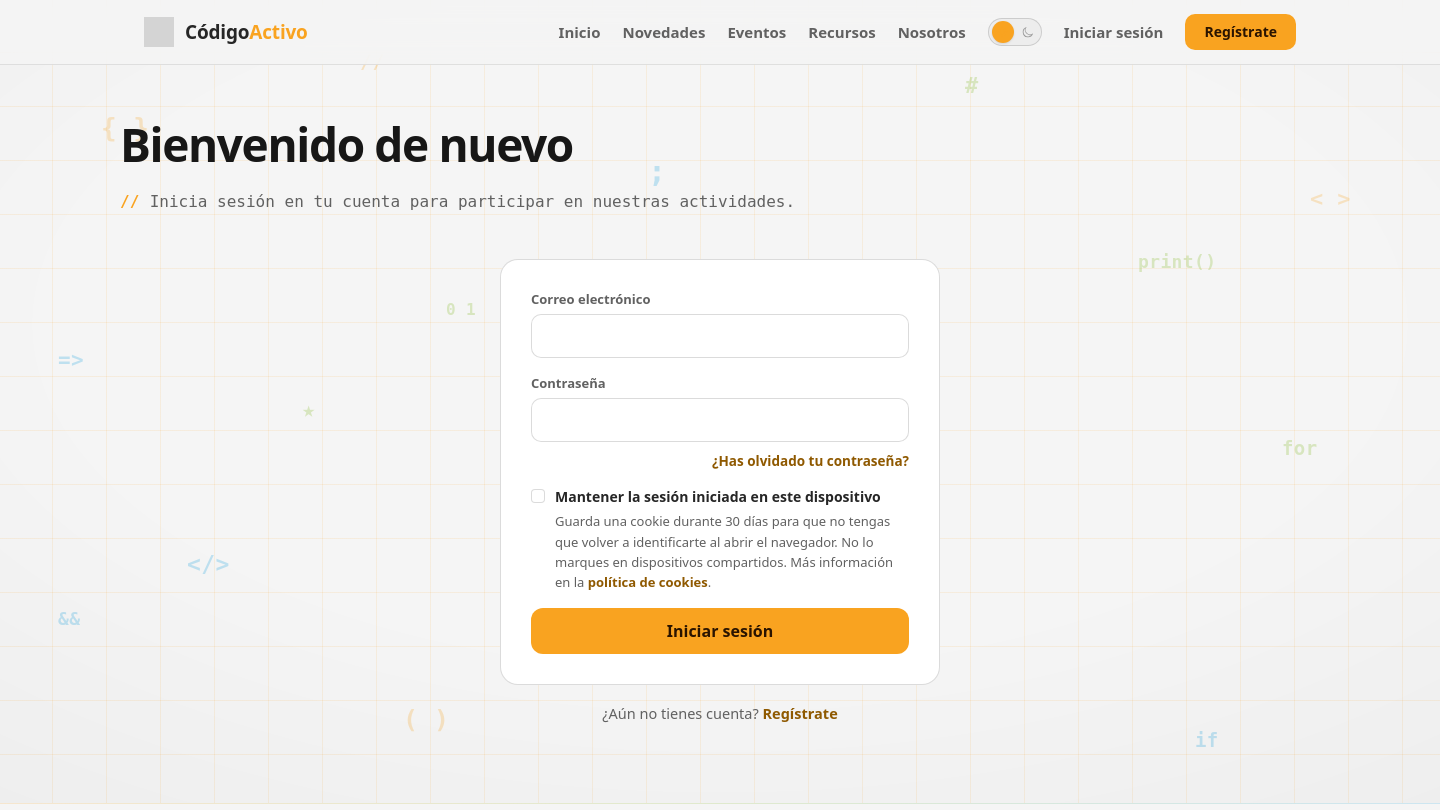
Test: login page › accepts the password and continues to the verification page keeping the redirect
Expected: the heading "Bienvenido de nuevo" is shown, left=120, top=113, right=573, bottom=175
Type "grace@example.test" into the field with id "login-identifier".
click(720, 336); type("grace@example.test")  # box left=545, top=315, right=895, bottom=357
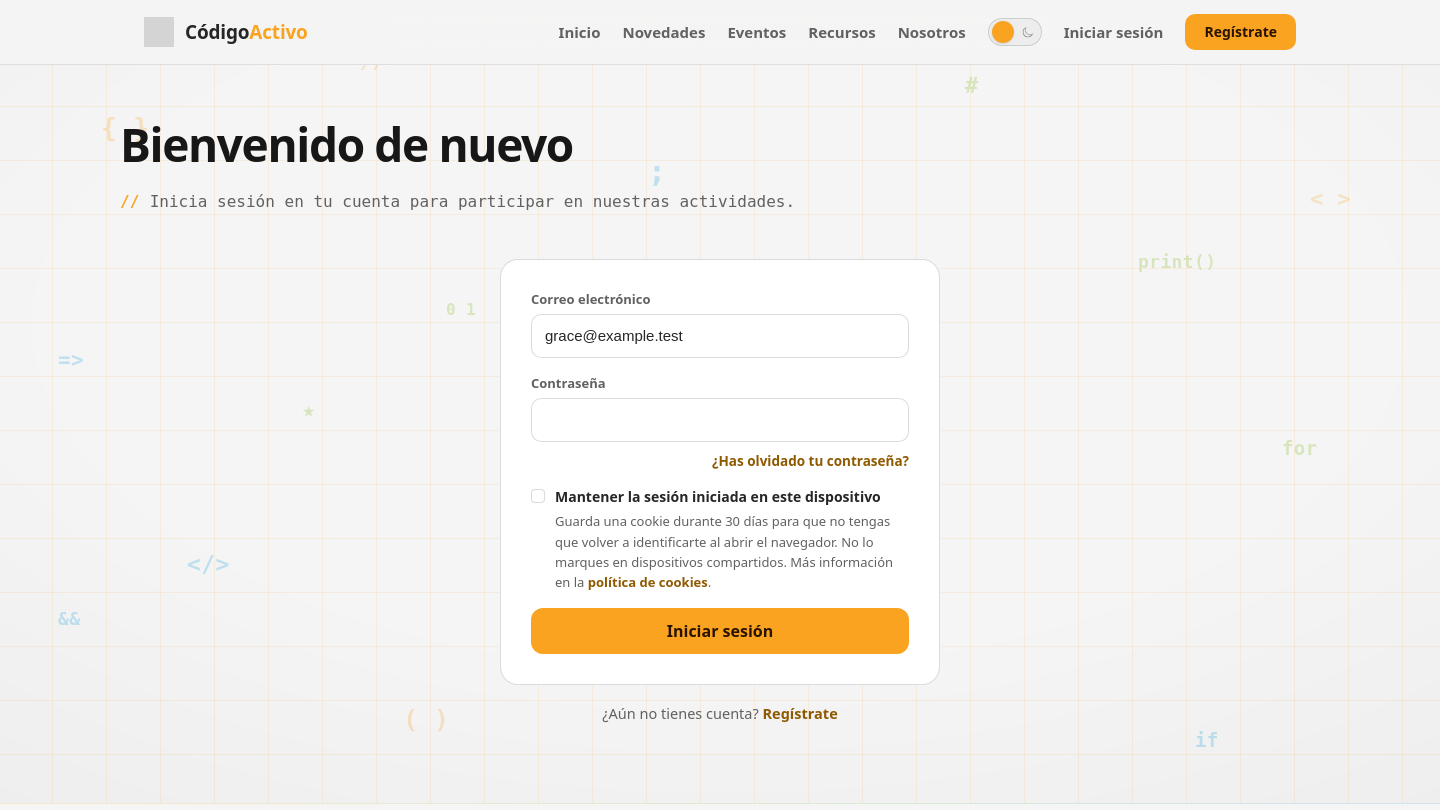
Type "secret" into the password field with id "login-password".
click(720, 420); type("secret")  # box left=545, top=399, right=895, bottom=441
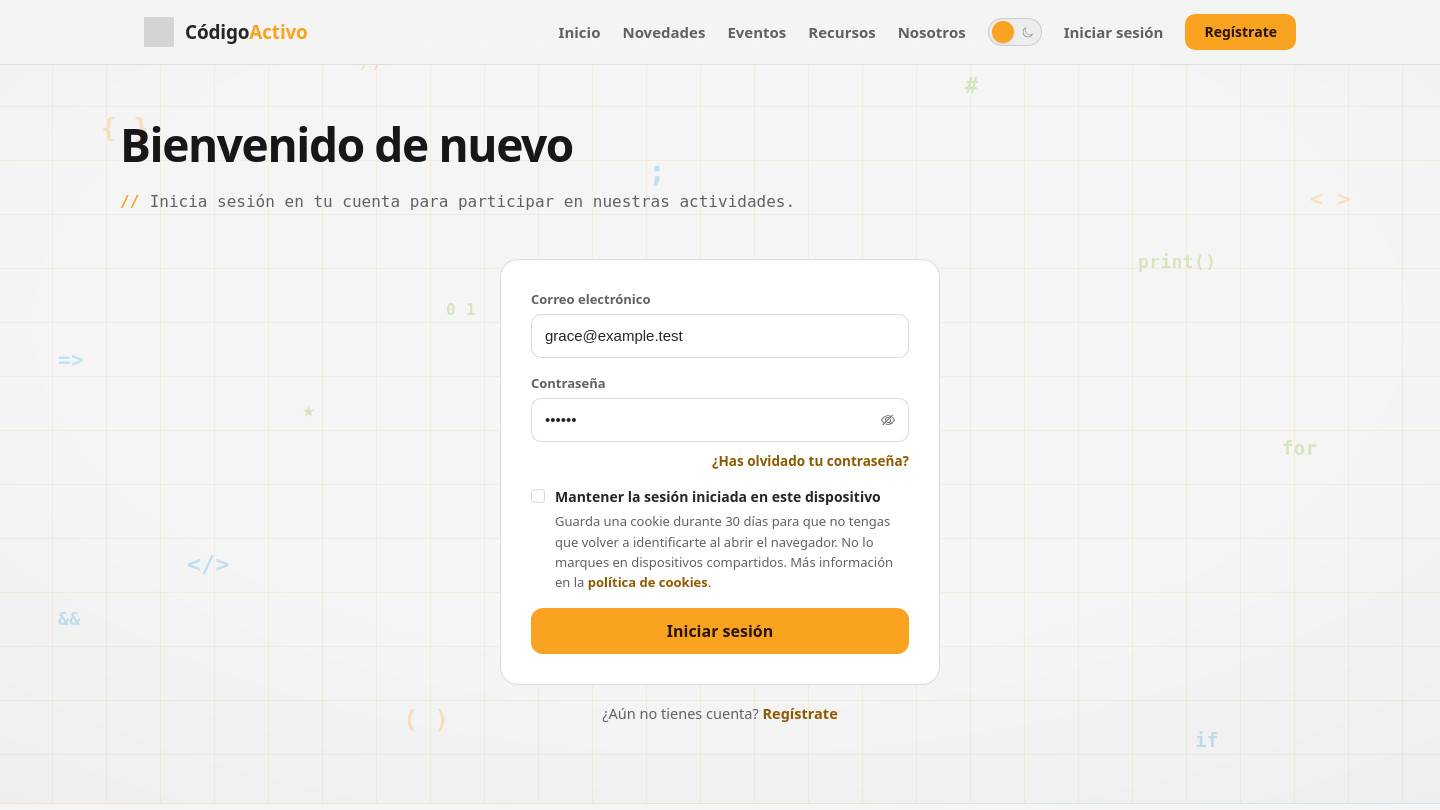
Submit the form, box left=500, top=259, right=940, bottom=685
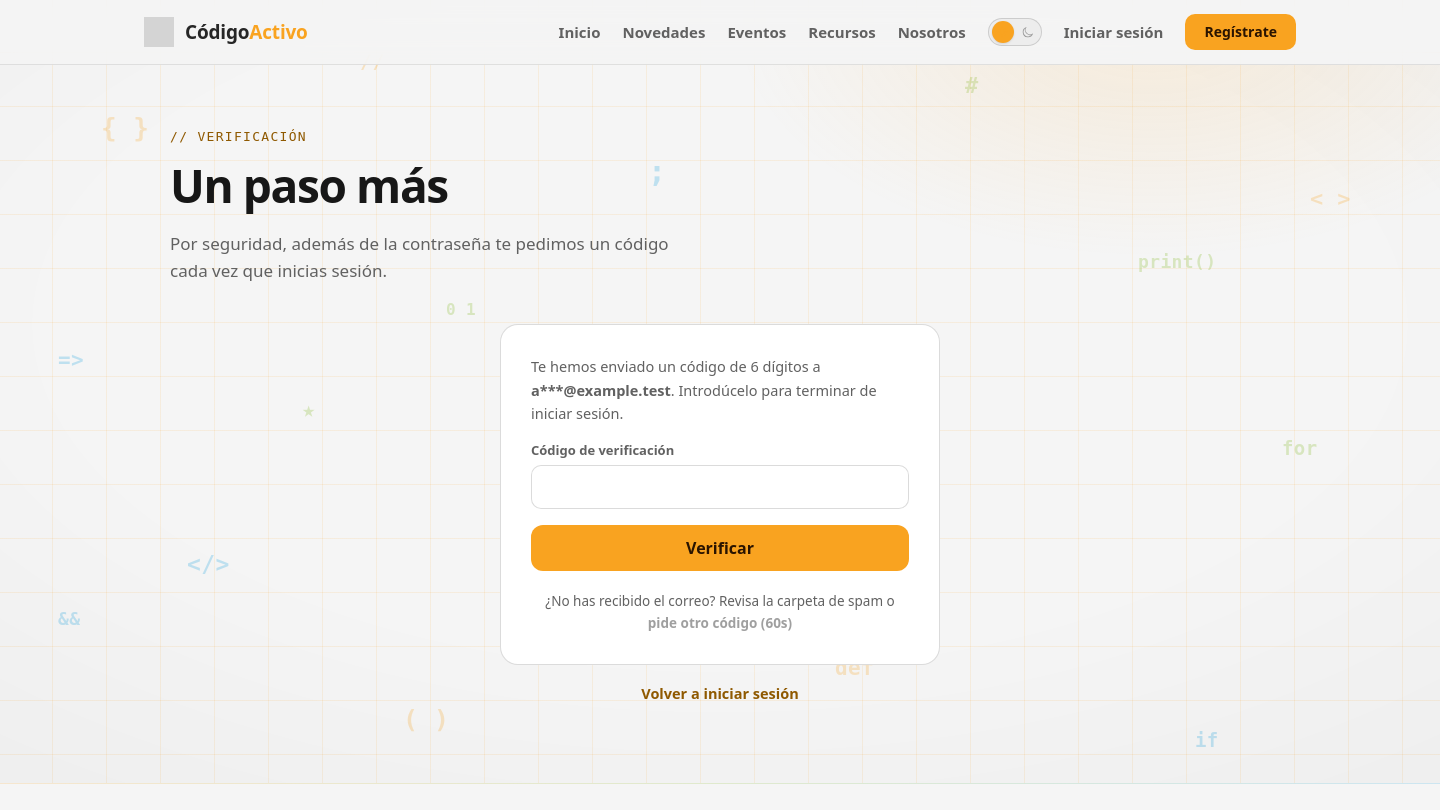
Expected: the text "Un paso más" is shown, left=170, top=154, right=448, bottom=216
